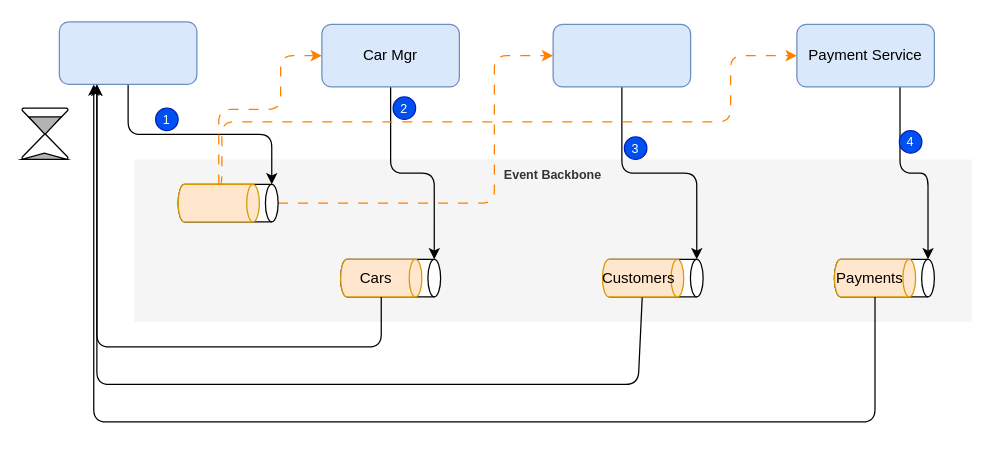
This 994x454 diagram has some shape labels left out. Here are the shapes that lost their labels. From the top down, the centre of each, then its label:
At point 127,52: "CarRide Mgr".
At point 621,55: "Customer Mgr".
At point 218,202: "CarRides".
